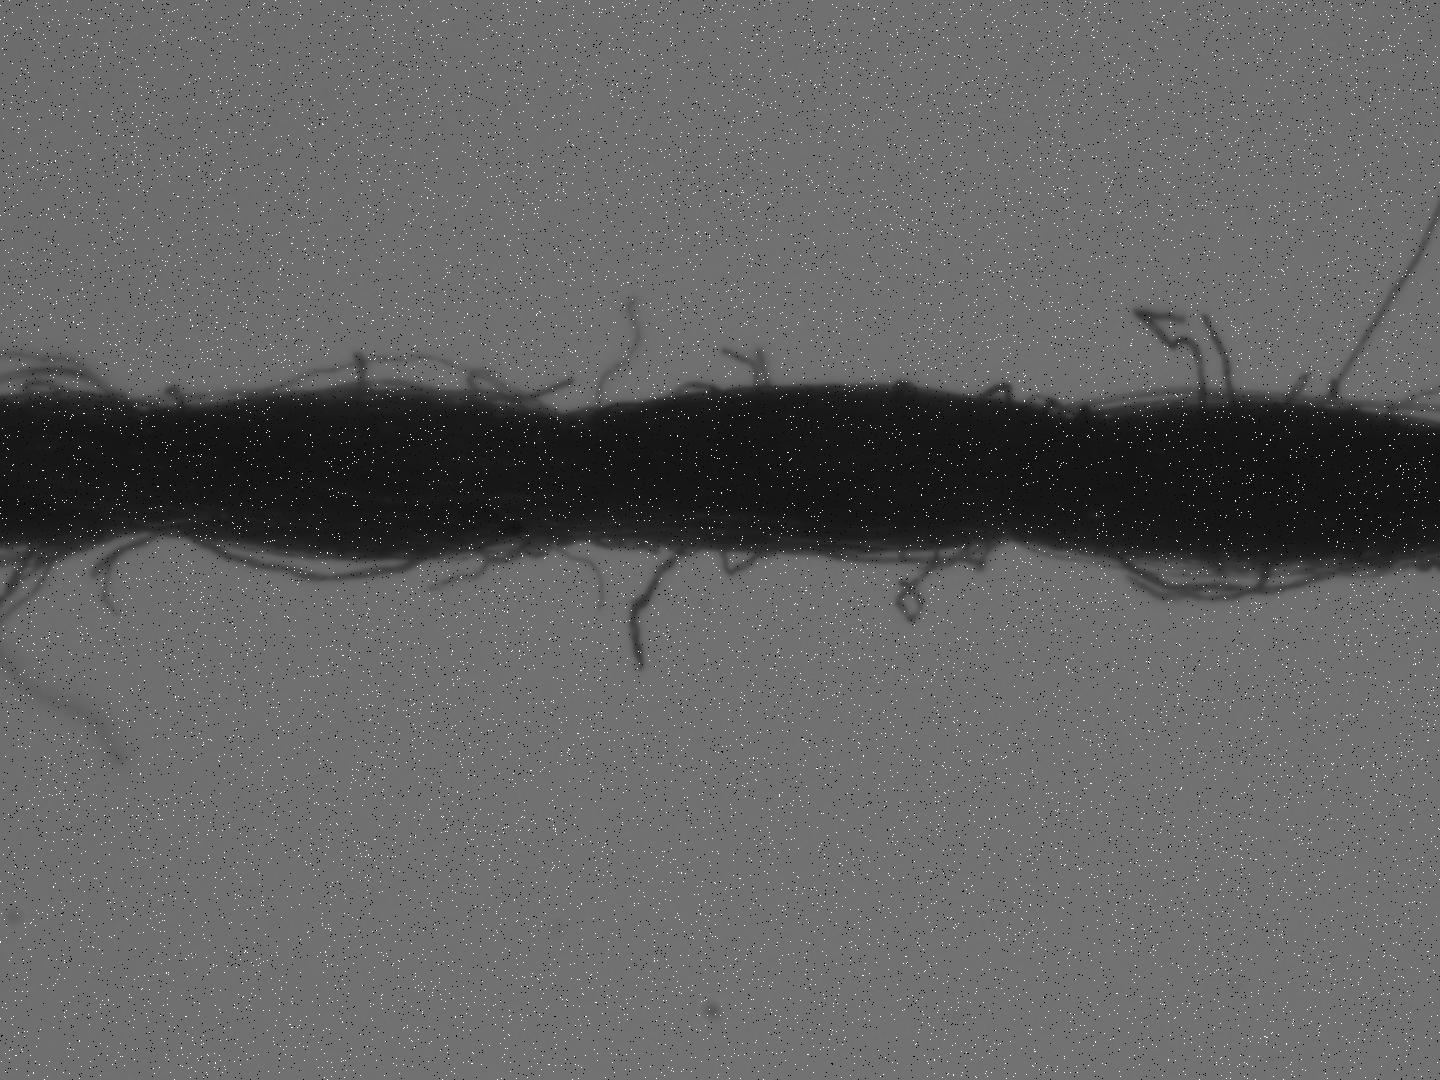loop_fiber: (242, 349, 561, 415), (184, 537, 434, 585), (1101, 548, 1276, 596), (820, 534, 1002, 580), (976, 374, 1074, 421), (718, 538, 778, 580), (668, 374, 739, 400)
protruding_fiber: (626, 541, 693, 669), (1200, 309, 1239, 413)
